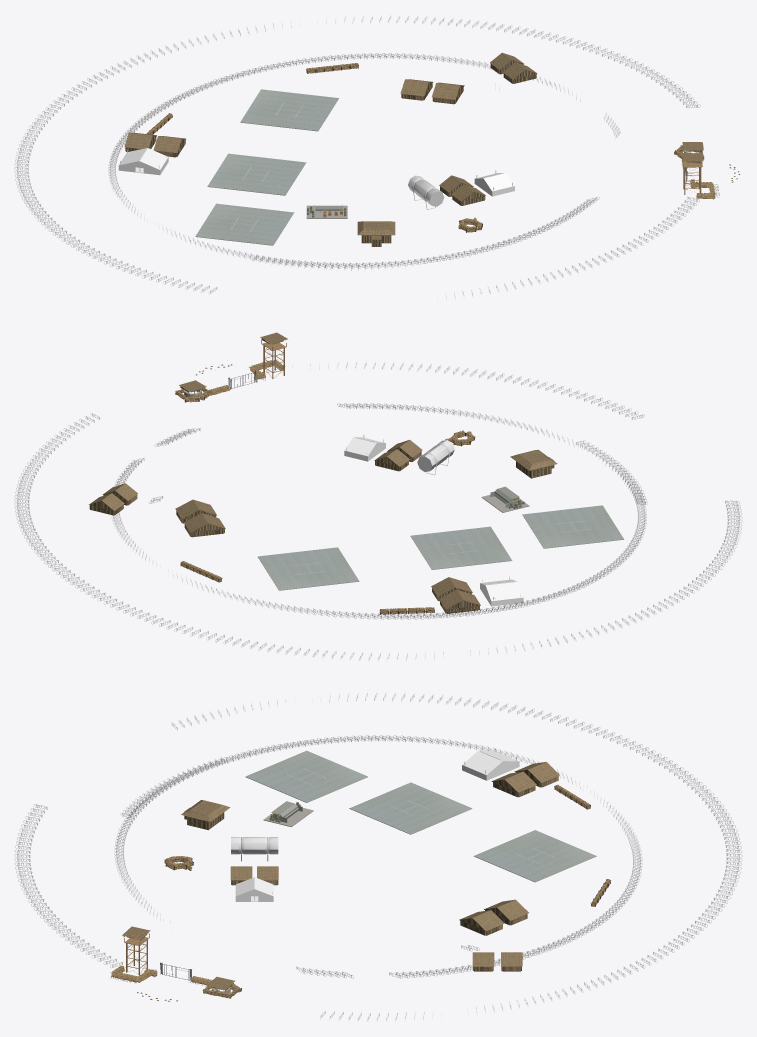
File: fsb_main.glb
3 views of the same model, one above another, from view 1: azimuth 30°, elevation 25°; view 2: azimuth 150°, elevation 25°; view 3: azimuth 270°, elevation 25° (orthographic). The views are drawn at different scales.
Parts seen in each view (by area): view 1: PSPHelipad_002-col, PSPHelipad_003-col, PSPHelipad_001-col, aid_station_001-col, AmmoBunker_001-col, aid_station_002-col, tent_001-col, Hootch_004-col, Hootch_005-col, Hootch_002-col, Hootch_002_001-col, Hootch_001_001-col (+1 smaller); view 2: PSPHelipad_002-col, PSPHelipad_001-col, PSPHelipad_003-col, aid_station_001-col, AmmoBunker_001-col, Hootch_004-col, Hootch_001-col, aid_station_002-col, tent_001-col, Hootch_005-col; view 3: PSPHelipad_003-col, PSPHelipad_002-col, PSPHelipad_001-col, aid_station_001-col, AmmoBunker_001-col, tent_001-col, aid_station_002-col, Hootch_002-col, Hootch_005-col, Hootch_004-col, Hootch_001-col.
Boxes of the visible parts, <box> form: PSPHelipad_002-col: <box>207,153,306,195</box>; PSPHelipad_003-col: <box>240,89,338,131</box>; PSPHelipad_001-col: <box>195,203,294,245</box>; aid_station_001-col: <box>118,148,168,175</box>; AmmoBunker_001-col: <box>357,221,395,246</box>; aid_station_002-col: <box>474,170,514,196</box>; tent_001-col: <box>408,175,444,209</box>; Hootch_004-col: <box>400,79,433,100</box>; Hootch_005-col: <box>432,82,464,104</box>; Hootch_002-col: <box>153,136,185,157</box>; Hootch_002_001-col: <box>503,62,537,83</box>; Hootch_001_001-col: <box>451,184,485,205</box>; PSPHelipad_002-col: <box>410,526,512,569</box>; PSPHelipad_001-col: <box>522,505,623,548</box>; PSPHelipad_003-col: <box>257,547,359,590</box>; aid_station_001-col: <box>480,576,523,606</box>; AmmoBunker_001-col: <box>510,449,557,478</box>; Hootch_004-col: <box>184,513,225,537</box>; Hootch_001-col: <box>439,590,480,613</box>; aid_station_002-col: <box>344,435,385,461</box>; tent_001-col: <box>417,440,454,475</box>; Hootch_005-col: <box>175,499,216,523</box>; PSPHelipad_003-col: <box>473,830,596,882</box>; PSPHelipad_002-col: <box>349,782,472,834</box>; PSPHelipad_001-col: <box>245,750,367,802</box>; aid_station_001-col: <box>462,748,519,780</box>; AmmoBunker_001-col: <box>181,800,230,830</box>; tent_001-col: <box>231,837,278,861</box>; aid_station_002-col: <box>235,877,273,901</box>; Hootch_002-col: <box>491,771,536,797</box>; Hootch_005-col: <box>459,910,504,935</box>; Hootch_004-col: <box>484,899,528,925</box>; Hootch_001-col: <box>514,762,559,787</box>.
Bounding box in the file's own units: 164 × 9.6 × 155.
Materials: 94 (31 with a texture image).
